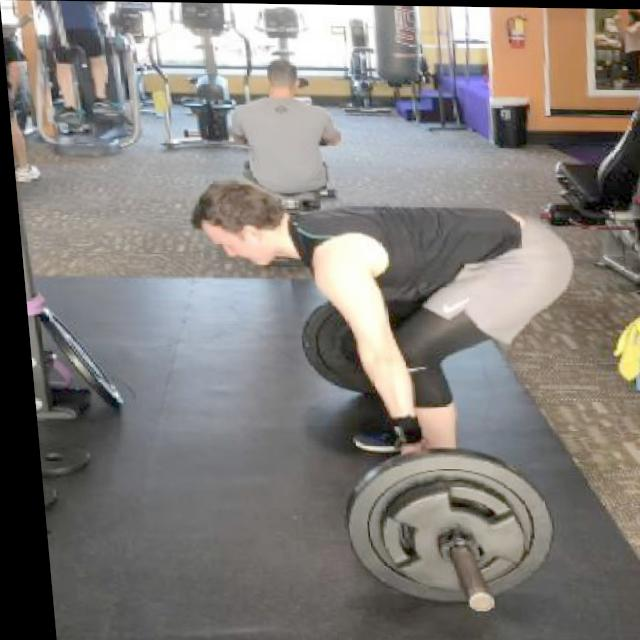barbell: (329, 447, 553, 617)
